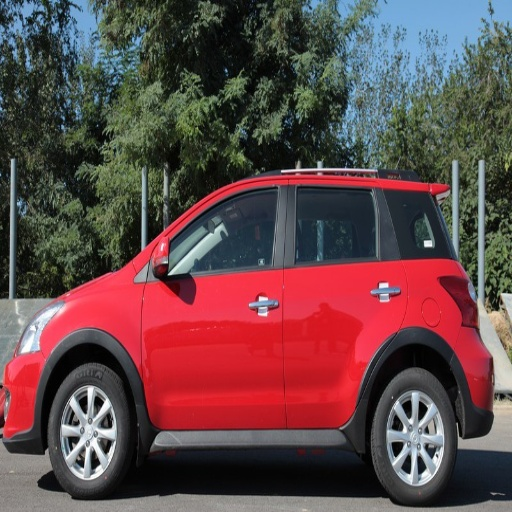back_left_door: (284, 178, 408, 426)
front_left_door: (143, 180, 289, 425)
